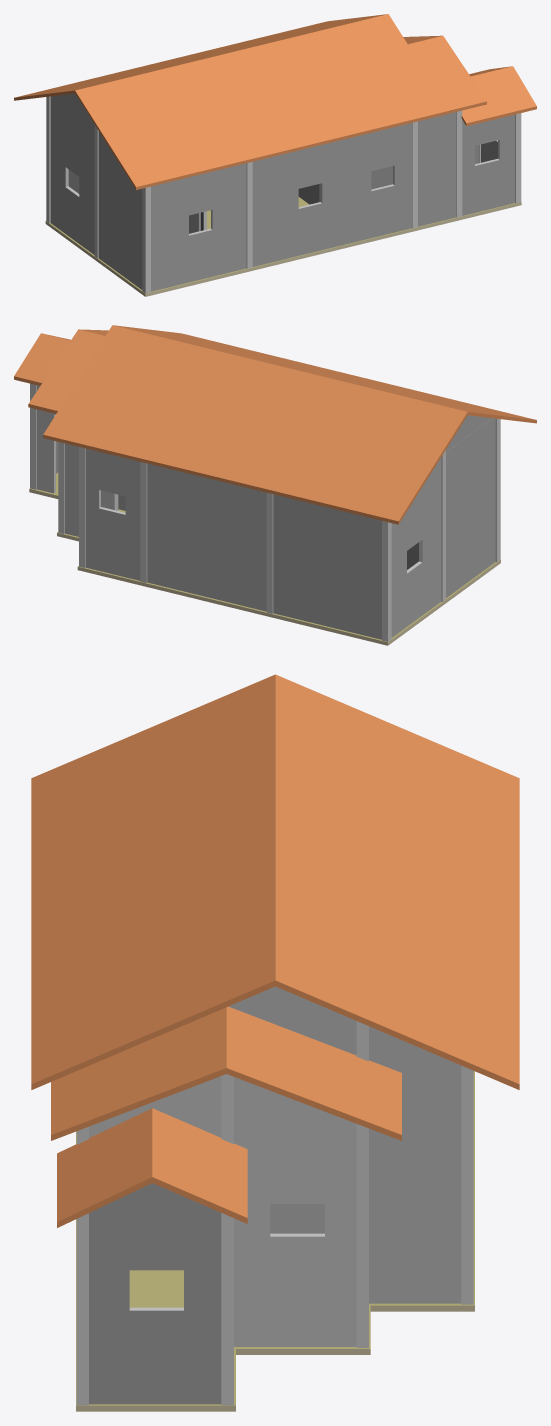
Rendered from Casa C1-06.fbx.
3 views of the same model, one above another, from view 1: azimuth 30°, elevation 25°; view 2: azimuth 150°, elevation 25°; view 3: azimuth 270°, elevation 25° (orthographic). The views are drawn at different scales.
Visible parts, largest first — view 1: Cubo.001; view 2: Cubo.001; view 3: Cubo.001.
Boxes of the visible parts, x1,y1,x2,y2 form: Cubo.001: (14,14,536,296); Cubo.001: (14,325,536,645); Cubo.001: (31,674,519,1411).
Bounding box in the file's own units: 3446 × 1414 × 1790.
